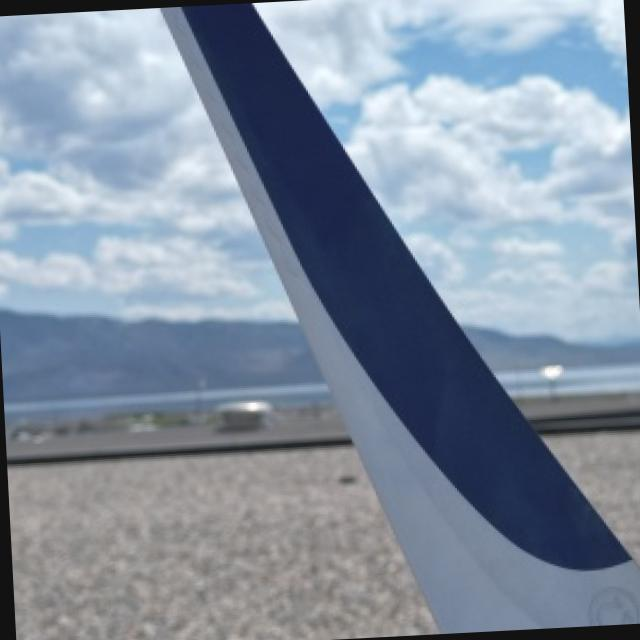healthy: (402, 16, 629, 110)
